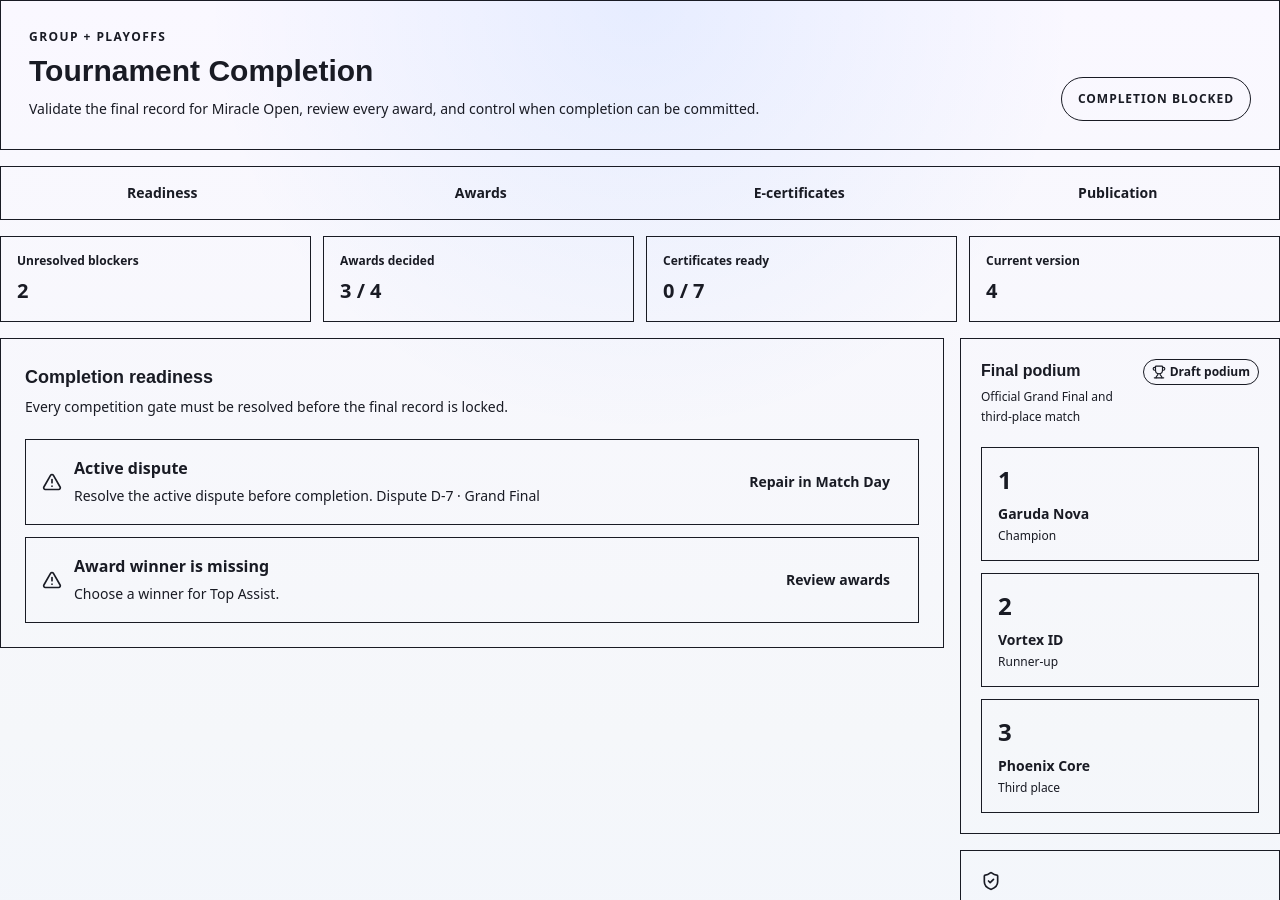
Test: CompletionWorkspace › shows every tied award candidate, the source metric, and the audit-reason requirement
Click the tab "Awards" at (481, 193), box [324,171,638,215]
(page scrolled)
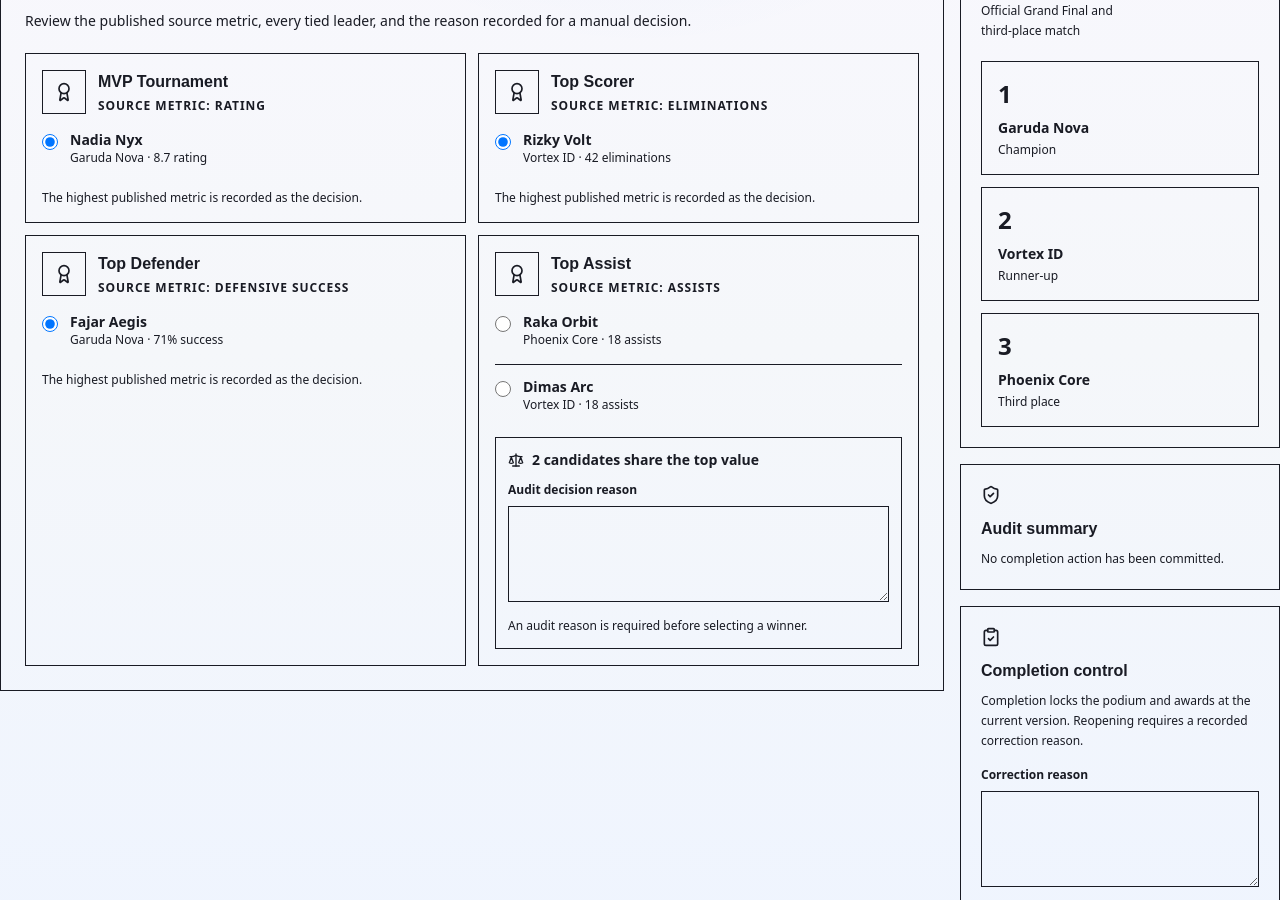
Check: the element that starts with "Top Assist" shows "Assists", box [551,279,721,296]
Check: the element that starts with "Top Assist" shows "Raka Orbit", box [523,312,598,331]
Check: the element that starts with "Top Assist" shows "Dimas Arc", box [523,377,593,396]
